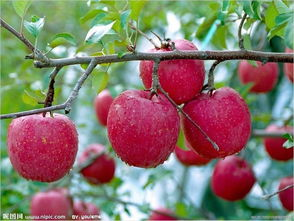apple: (106, 89, 182, 171)
obscured(0)_apple: (5, 115, 81, 184)
obscured(1)_apple: (182, 86, 257, 160)
obscured(2)_apple: (139, 38, 212, 106)
